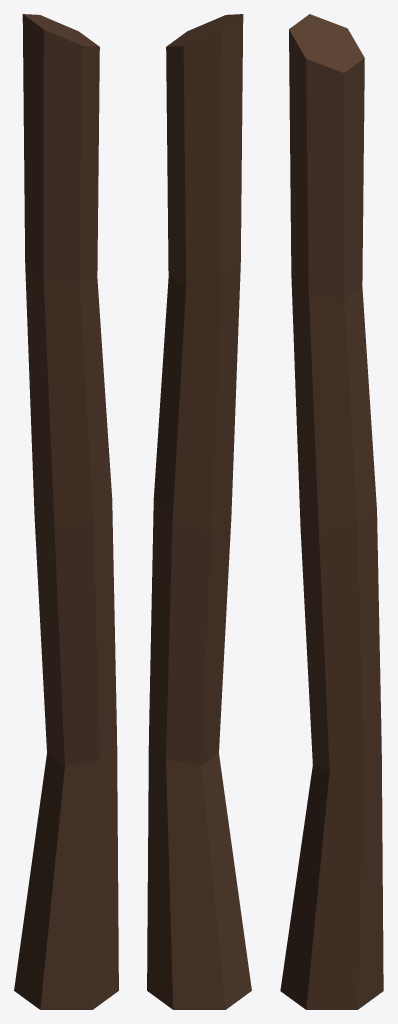
Rendered from Stick.fbx.
3 views of the same model, side by side, from view 1: azimuth 30°, elevation 25°; view 2: azimuth 150°, elevation 25°; view 3: azimuth 330°, elevation 25° (orthographic).
Visible parts, largest first — view 1: Wood(Stick); view 2: Wood(Stick); view 3: Wood(Stick).
Boxes of the visible parts, x1,y1,x2,y2 form: Wood(Stick): (14,14,118,1009); Wood(Stick): (147,14,251,1009); Wood(Stick): (280,14,383,1009).
Bounding box in the file's own units: 27.78 × 320 × 31.16.
